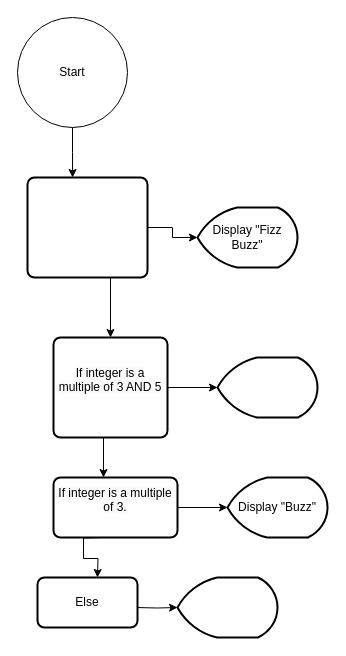
Some shapes in this 346 by 656 pixel diagram are drawn without their labels. Each missing label, with the centre of its shape:
Display "Fizz": (x=267, y=387)
Display Integer: (x=227, y=607)
For Loop for integer in range of 25: (x=87, y=227)
